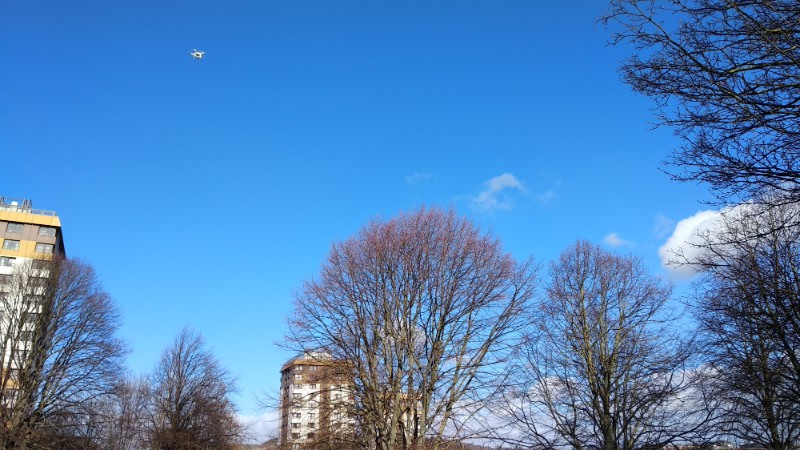drone: (188, 48, 205, 60)
